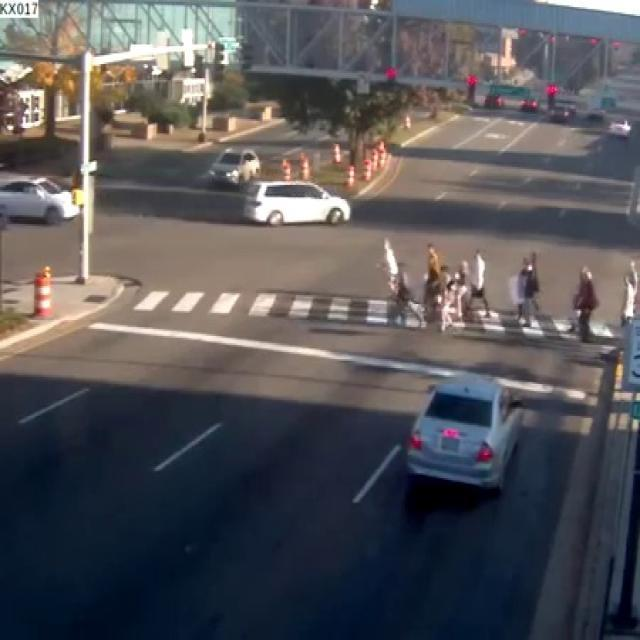car: (406, 375, 519, 488), (242, 181, 349, 224)
red_light: (464, 73, 476, 104), (544, 81, 557, 109)
stop_line: (90, 320, 585, 392)
